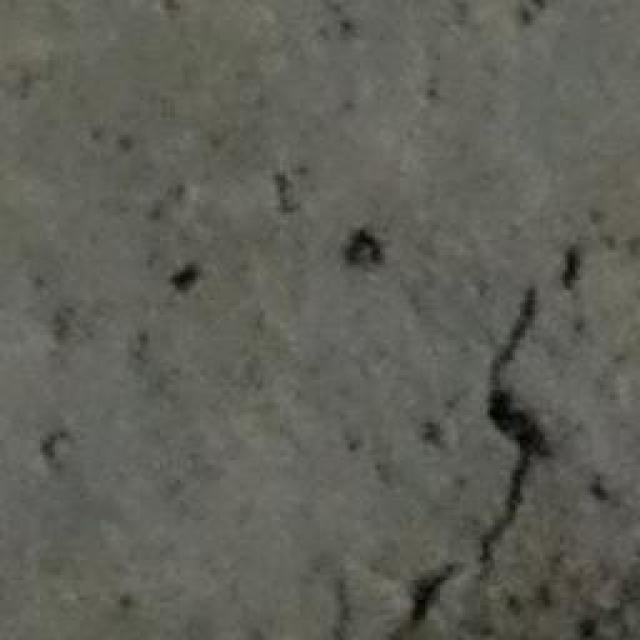Longitudinal: (373, 223, 640, 640)
